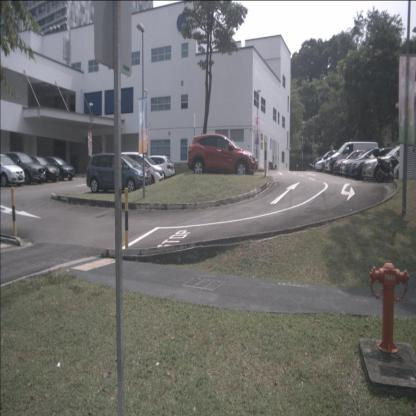vehicle-car: (186, 133, 256, 179), (86, 153, 149, 194), (102, 152, 164, 188), (97, 153, 152, 193), (349, 147, 410, 182), (362, 147, 415, 185), (329, 142, 381, 176), (0, 151, 47, 186), (339, 149, 387, 182), (13, 154, 60, 184), (333, 150, 378, 177), (312, 149, 354, 174), (35, 156, 75, 182), (136, 156, 175, 182), (0, 154, 25, 188), (315, 152, 355, 173)
vehicle-motorcycle: (372, 146, 407, 184)
